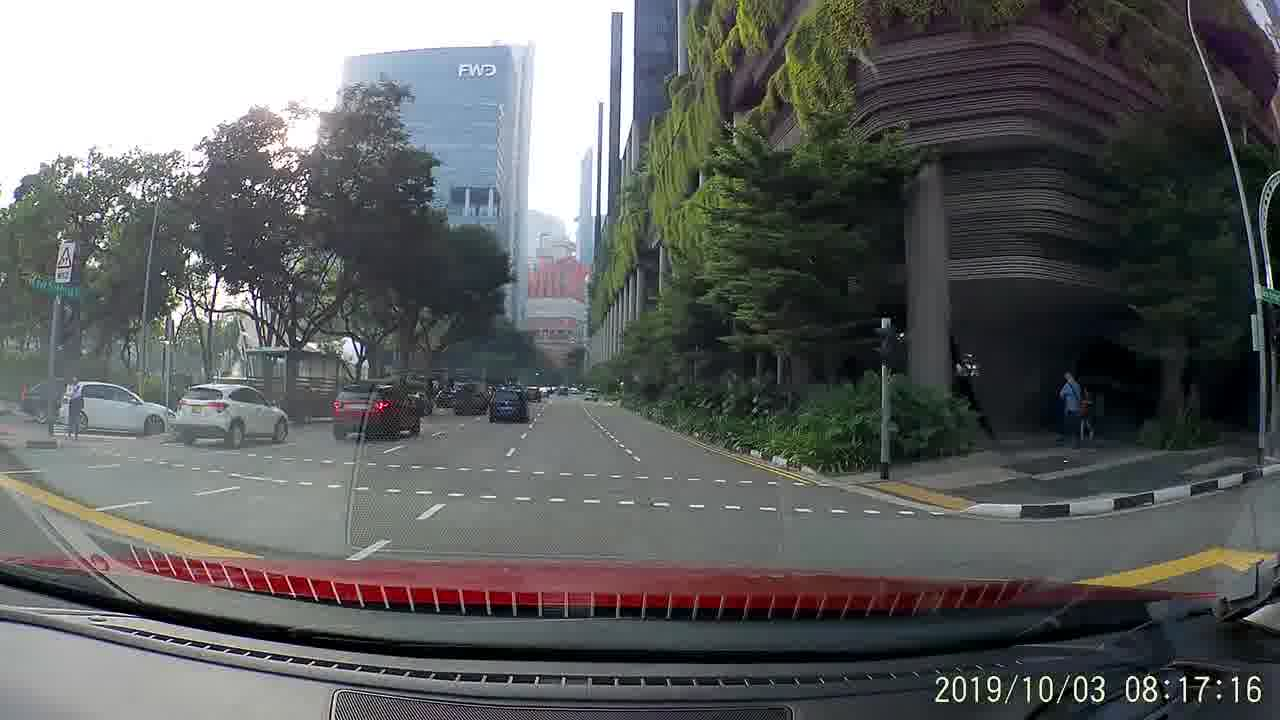car: (171, 384, 292, 448), (57, 375, 175, 437), (333, 379, 422, 438), (490, 387, 526, 422), (579, 384, 603, 401), (553, 385, 571, 399)
